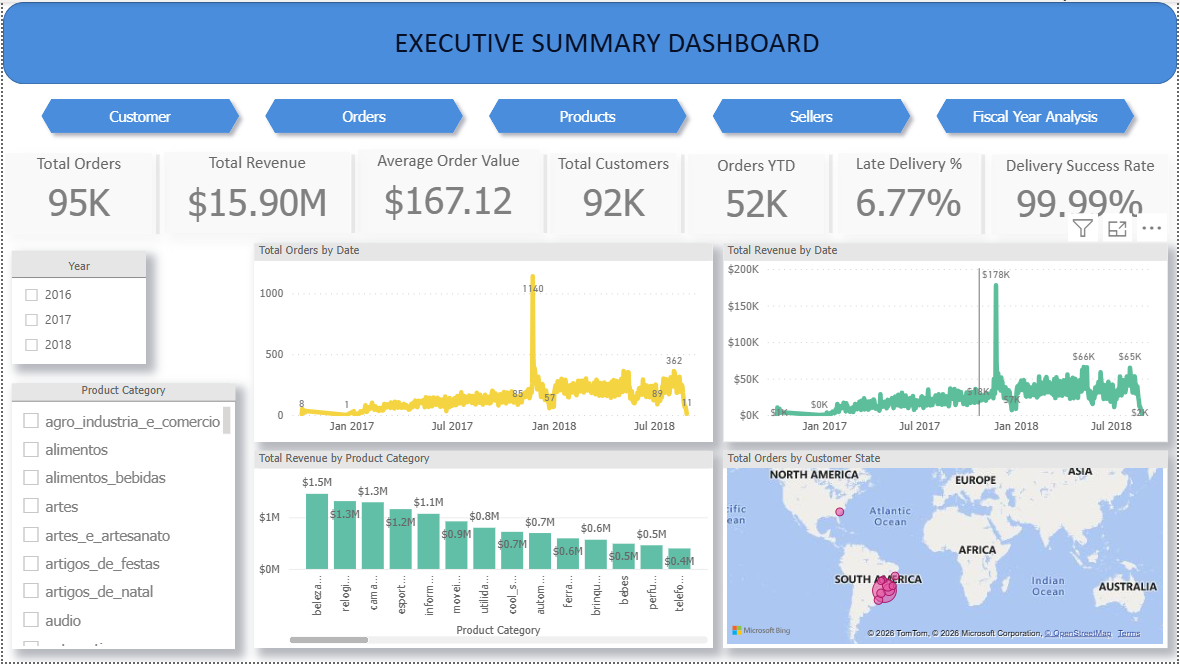

The page's visual inventory and layout, read from the dashboard file:
{"tool":"powerbi","page":{"name":"Executive Summary","canvas":[1280,720],"ordinal":0},"visuals":[{"type":"shape","box":[0,0,1280.5,89.5],"z":0},{"type":"textbox","box":[414.8,18.6,493.8,52.3],"z":1000},{"type":"slicer","title":"Product Category","fields":{"Values":["DimProduct.product_category_name"]},"box":[10.2,415.2,243.7,290],"z":2000},{"type":"card","title":"Total Customers","fields":{"Values":["AllMeasures.Total Customers"]},"box":[597.6,164.5,137.7,88],"z":3000},{"type":"card","title":"Total Revenue","fields":{"Values":["AllMeasures.Total Revenue"]},"box":[175.6,163.4,203.1,89.1],"z":4000},{"type":"card","title":"Delivery Success Rate","fields":{"Values":["AllMeasures.Delivery Success Rate"]},"box":[1077.6,165.9,192.9,86.9],"z":5000},{"type":"card","title":"Late Delivery %","fields":{"Values":["AllMeasures.Late Delivery %"]},"box":[910.1,164.5,154.6,88],"z":6000},{"type":"card","title":"Average Order Value","fields":{"Values":["AllMeasures.Average Order Value"]},"box":[386.6,161.1,197.5,91.4],"z":7000},{"type":"slicer","title":"Year","fields":{"Values":["DimDate.Year"]},"box":[10.2,271.9,146.7,123],"z":8000},{"type":"card","title":"Total Orders","fields":{"Values":["AllMeasures.Total Orders"]},"box":[2.9,164.5,160.2,88],"z":9000},{"type":"card","title":"Orders YTD","fields":{"Values":["AllMeasures.Orders YTD"]},"box":[747.7,165.6,148.9,86.9],"z":10000},{"type":"lineChart","fields":{"Category":["DimDate.Date.Variation.Date Hierarchy.Year"],"Y":["AllMeasures.Total Orders"]},"box":[274.2,262.9,499.9,216.6],"z":11000},{"type":"lineChart","fields":{"Category":["DimDate.Date.Variation.Date Hierarchy.Year"],"Y":["AllMeasures.Total Revenue"]},"box":[785.3,262.9,485.2,216.6],"z":12000},{"type":"clusteredColumnChart","title":"Total Revenue by Product Category","fields":{"Category":["DimProduct.product_category_name"],"Y":["AllMeasures.Total Revenue"]},"box":[274.2,489.7,499.9,215.5],"z":13000},{"type":"map","title":"Total Orders by Customer State","fields":{"Category":["DimCustomer.customer_state","DimCustomer.customer_city"],"Size":["AllMeasures.Total Orders"]},"box":[785.3,489.7,485.2,215.5],"z":14000},{"type":"shape","box":[158.6,165.6,21.4,86.9],"z":15000},{"type":"shape","box":[374.2,166.8,16.9,85.8],"z":16000},{"type":"shape","box":[580.7,166.8,21.4,85.8],"z":17000},{"type":"shape","box":[730.7,166.8,21.4,85.8],"z":18000},{"type":"shape","box":[892.1,166.8,22.6,85.8],"z":19000},{"type":"shape","box":[1060.2,165.6,16.9,86.9],"z":20000},{"type":"pageNavigator","box":[32.7,97,1214.1,55.3],"z":21000}]}

Visuals, with their boxes in screenshot pixels (x1, y1, x2, y2), scaled from the page's 1280x720 canvas onto the 1180x664 screenshot:
shape: region(0, 0, 1179, 83)
textbox: region(382, 17, 838, 65)
"Product Category" slicer: region(9, 383, 234, 650)
"Total Customers" card: region(551, 152, 678, 233)
"Total Revenue" card: region(162, 151, 349, 233)
"Delivery Success Rate" card: region(993, 153, 1171, 233)
"Late Delivery %" card: region(839, 152, 982, 233)
"Average Order Value" card: region(356, 149, 538, 233)
"Year" slicer: region(9, 251, 145, 364)
"Total Orders" card: region(3, 152, 150, 233)
"Orders YTD" card: region(689, 153, 827, 233)
lineChart - DimDate.Date.Variation.Date Hierarchy.Year x AllMeasures.Total Orders: region(253, 242, 714, 442)
lineChart - DimDate.Date.Variation.Date Hierarchy.Year x AllMeasures.Total Revenue: region(724, 242, 1171, 442)
"Total Revenue by Product Category" clusteredColumnChart: region(253, 452, 714, 650)
"Total Orders by Customer State" map: region(724, 452, 1171, 650)
shape: region(146, 153, 166, 233)
shape: region(345, 154, 361, 233)
shape: region(535, 154, 555, 233)
shape: region(674, 154, 693, 233)
shape: region(822, 154, 843, 233)
shape: region(977, 153, 993, 233)
pageNavigator: region(30, 89, 1149, 140)
